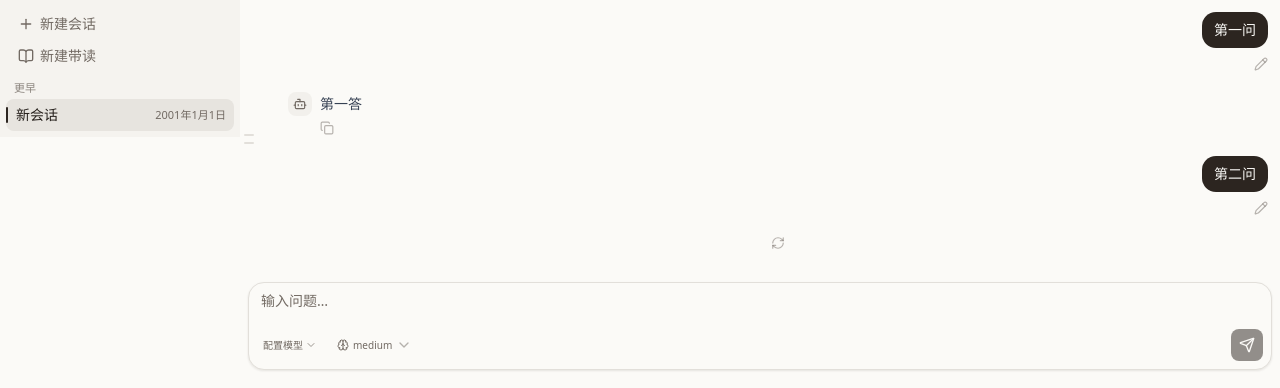
Test case: ChatPanel scroll behavior › shows a focus preview for one workspace tick
Focus the button named "跳转到第 1 条提问：第一问" at (258, 135), box [240,131,276,139]
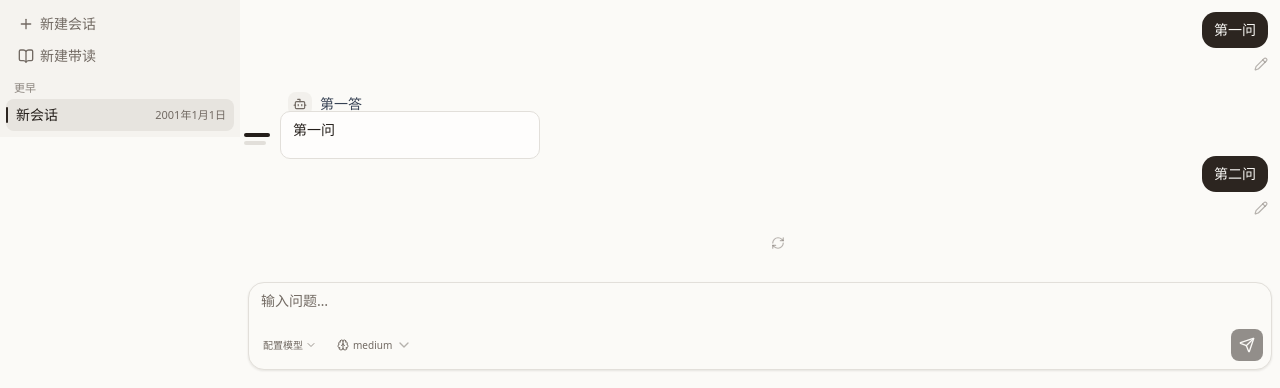
Now the element with test id "chat-outline-preview" reads "第一问", box [293,120,335,139]
Leave the button named "跳转到第 1 条提问：第一问", box [240,131,276,139]
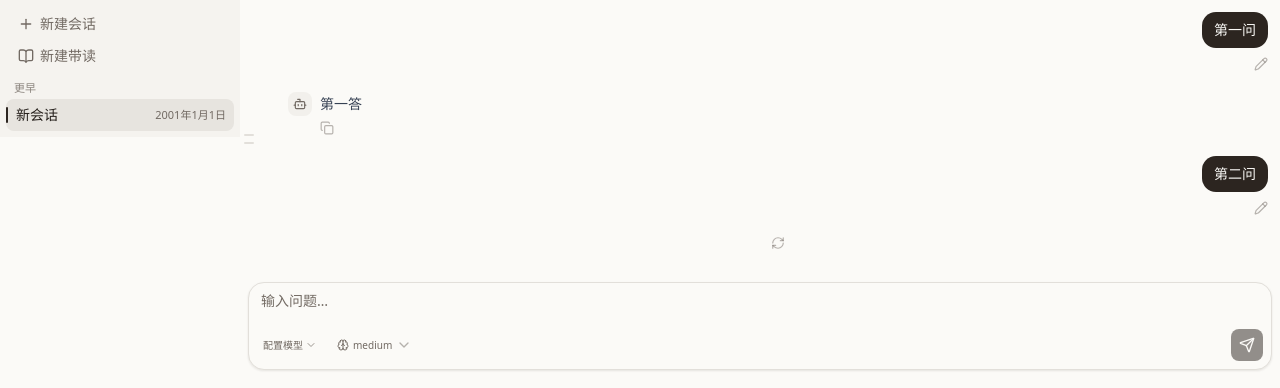
Now the element with test id "chat-outline-preview" is gone
